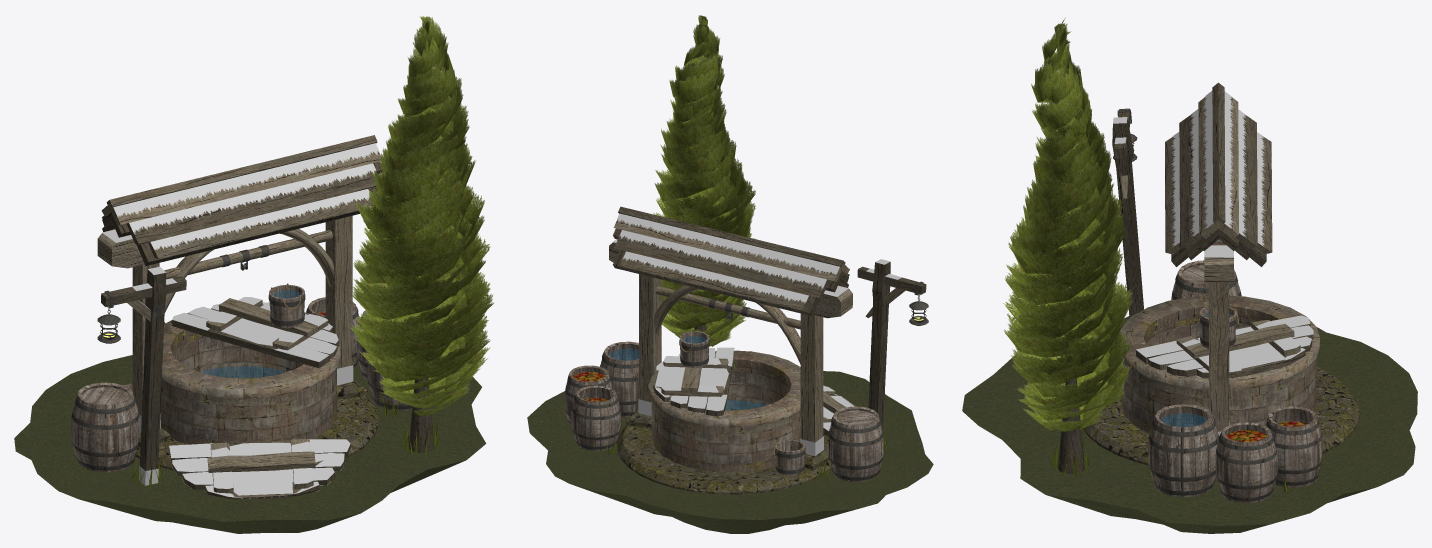
Rendered from brunnen_scene.gltf.
The picture shows the model from 3 angles, left to right: view 1: azimuth 30°, elevation 25°; view 2: azimuth 150°, elevation 25°; view 3: azimuth 270°, elevation 25°; orthographic projection. The views are drawn at different scales.
Visible parts, largest first — view 1: well, tree, ground, wellcap2, wellcap1, lamp, barrel4, bucketfull, grassonground, barrel3, barrel2; view 2: well, ground, tree, wellcap1, lamp, barrel4, barrel2, barrel3, barrel1, bucketempty, bucketfull, wellcap2; view 3: well, tree, ground, wellcap1, barrel3, barrel1, barrel2, lamp, barrel4, bucketfull.
Part boxes in pixels (x1,y1,x2,y2): well: (97, 135, 382, 470); tree: (348, 16, 494, 452); ground: (14, 355, 486, 533); wellcap2: (169, 439, 350, 499); wellcap1: (172, 297, 338, 368); lamp: (97, 266, 186, 485); barrel4: (71, 382, 139, 472); bucketfull: (268, 283, 305, 327); grassonground: (129, 391, 440, 487); barrel3: (367, 352, 412, 410); barrel2: (306, 297, 359, 368); well: (609, 206, 852, 494); ground: (527, 371, 933, 533); tree: (653, 15, 756, 346); wellcap1: (653, 347, 734, 416); lamp: (857, 259, 928, 430); barrel4: (828, 406, 883, 481); barrel2: (571, 385, 621, 451); barrel3: (600, 341, 638, 417); barrel1: (564, 365, 613, 426); bucketempty: (773, 440, 806, 475); bucketfull: (679, 330, 710, 367); wellcap2: (823, 385, 856, 436); well: (1083, 82, 1360, 465); tree: (1003, 17, 1132, 473); ground: (962, 316, 1417, 533); wellcap1: (1136, 315, 1313, 378); barrel3: (1148, 404, 1219, 497); barrel1: (1215, 422, 1277, 503); barrel2: (1266, 406, 1322, 487); lamp: (1112, 108, 1143, 317); barrel4: (1171, 260, 1241, 300); bucketfull: (1197, 306, 1238, 348).
Size of the model in its own units: 14.29 by 15.46 by 12.61.
